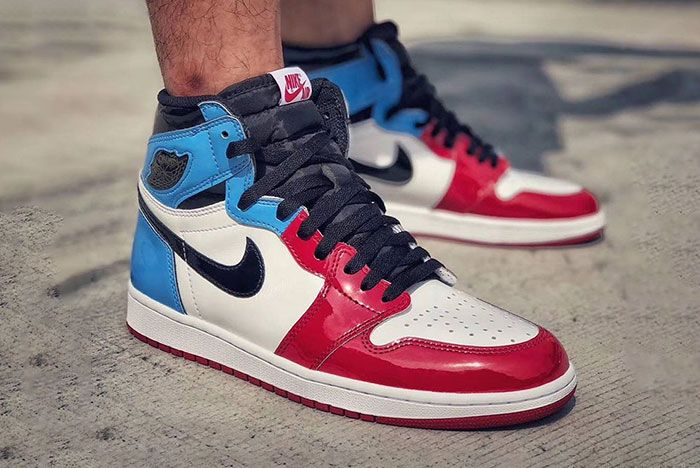Jordan 1: (123, 62, 584, 434)
